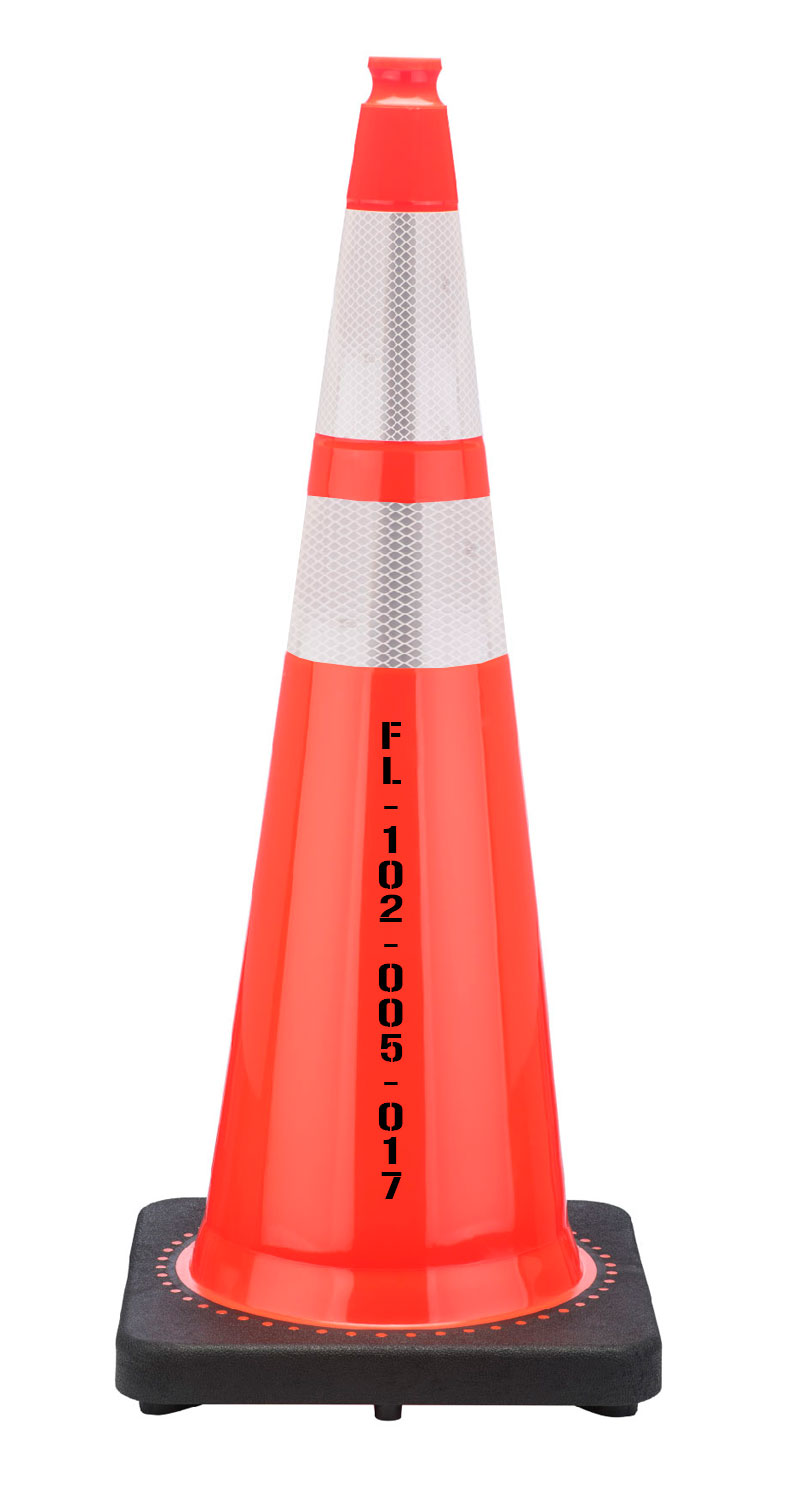Road_cone: (59, 50, 678, 1421)
